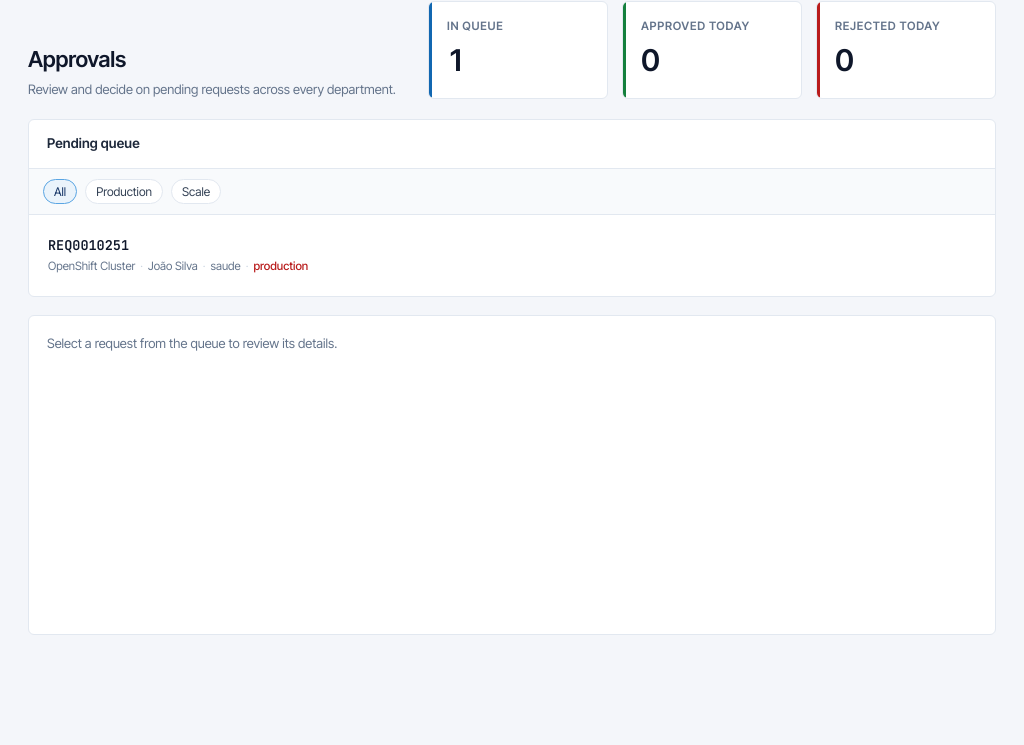
Test: Approvals › rejecting marks the request failed, removes from queue, and toasts
The width and height of the screenshot is (1024, 745).
Click the button with class "approval-row". click: (88, 245)
box: [48, 236, 308, 273]
(page scrolled)
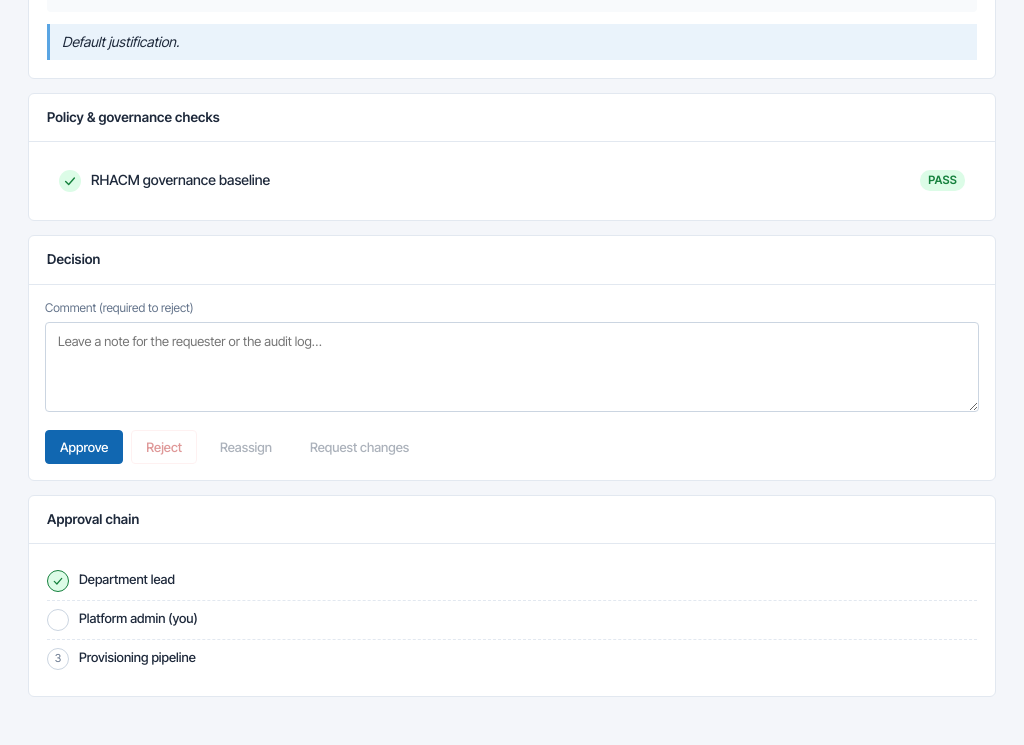
Type "Insufficient justification." into the text box labelled "Comment (required to reject)". click: (512, 367)
box: [45, 322, 979, 412]
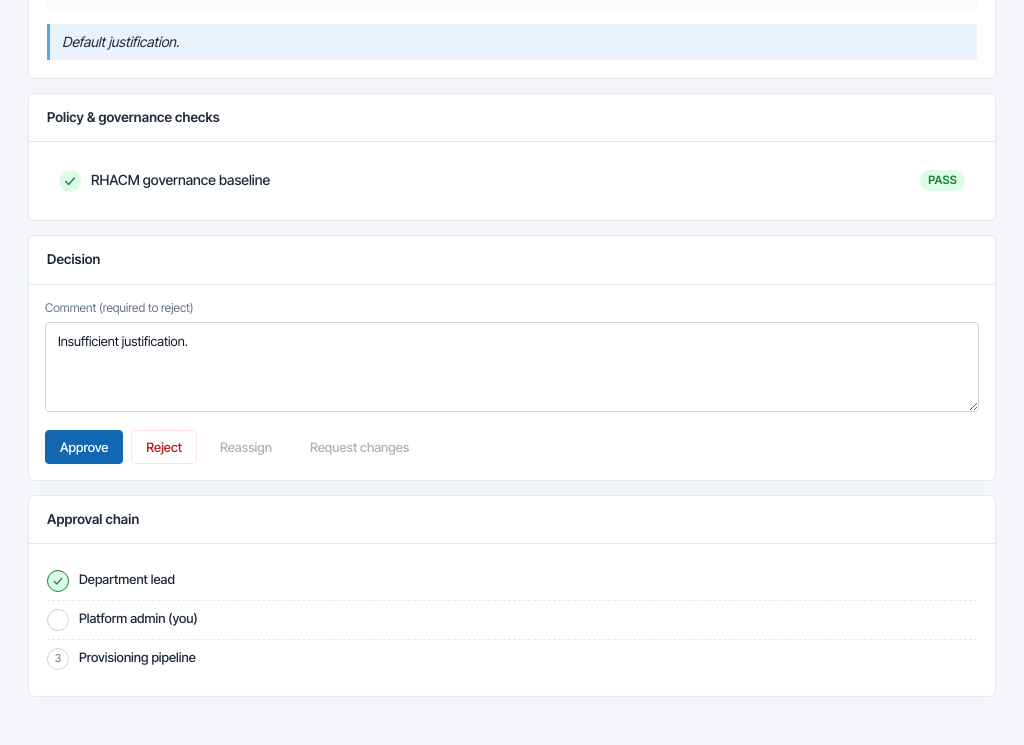
Click the button "Reject". click: (164, 447)
box: [131, 430, 197, 464]
(page scrolled)
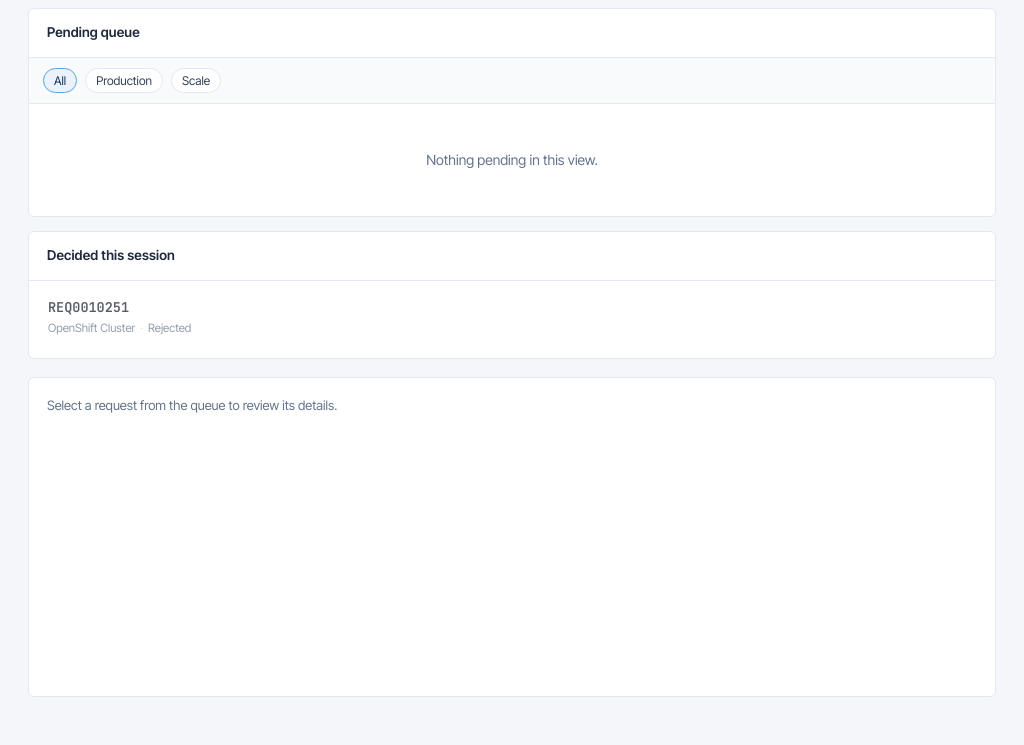
Expected: the element with test id "decided-this-session" shows "REQ0010251", [48, 298, 129, 316]
